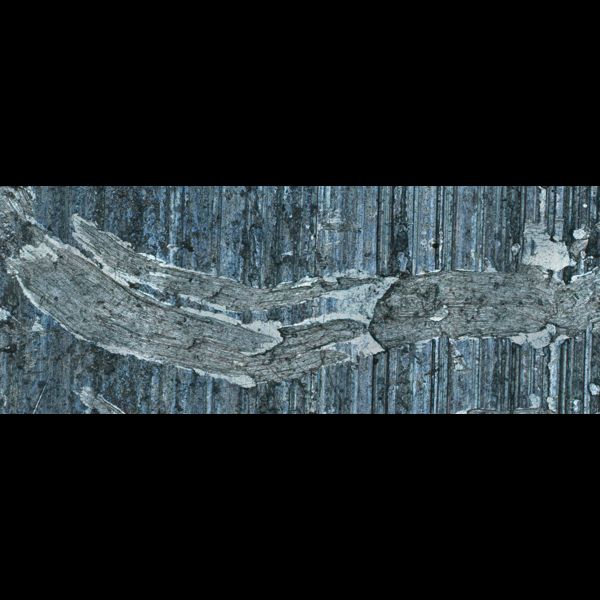d: (96, 257, 339, 393), (299, 262, 489, 378), (4, 193, 144, 340), (490, 207, 600, 365), (524, 377, 599, 414)
